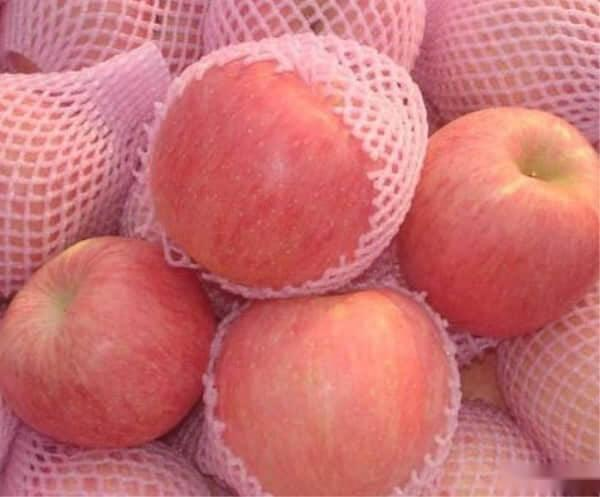apple: (150, 35, 416, 293), (205, 289, 463, 495), (1, 237, 220, 451), (403, 105, 598, 335)
